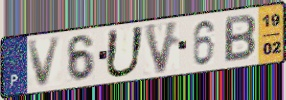6: (65, 32, 98, 84), (191, 18, 216, 66)
B: (222, 13, 258, 65)
U: (103, 25, 147, 80)
V: (142, 19, 182, 76), (26, 34, 64, 90)
